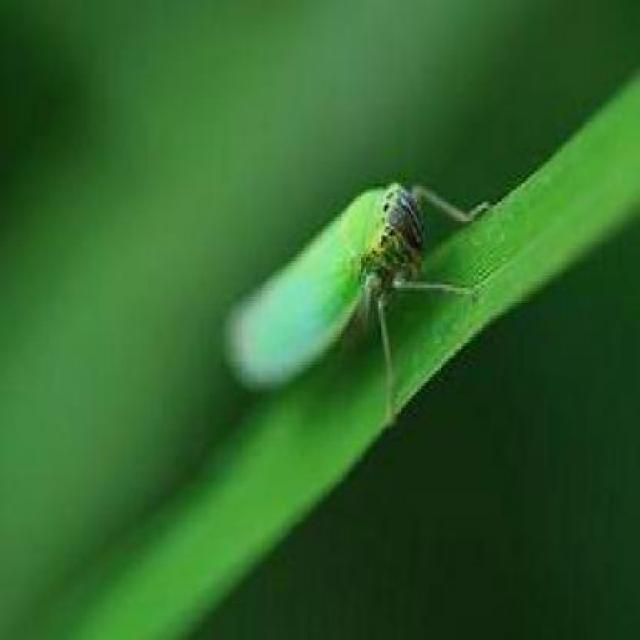green-leafhopper: (228, 183, 446, 408)
